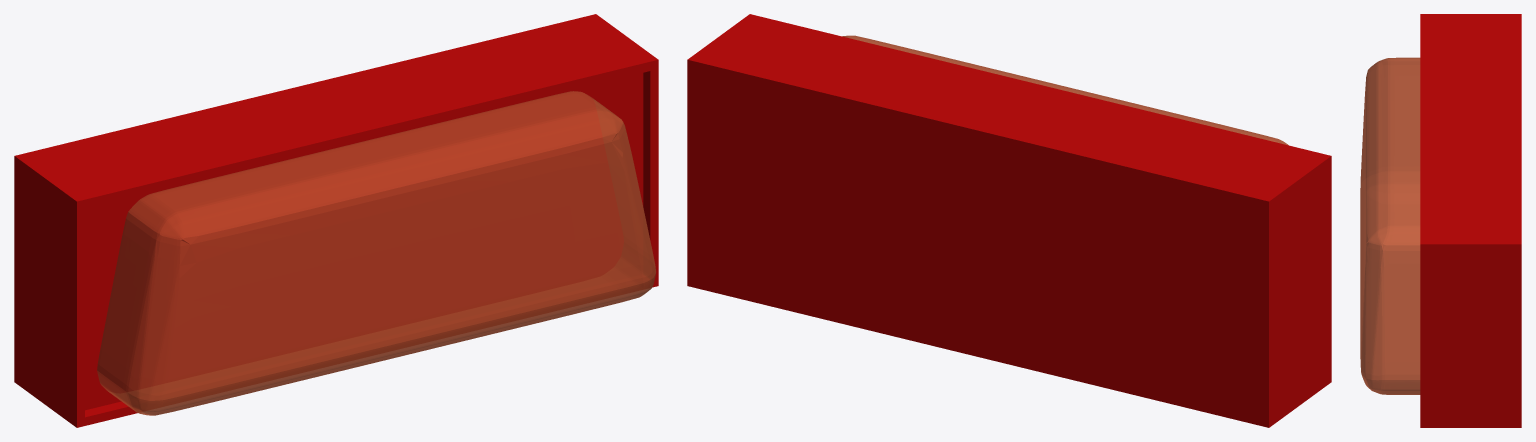
The model's file is light_1.fbx.
The picture shows the model from 3 angles, left to right: view 1: azimuth 30°, elevation 25°; view 2: azimuth 150°, elevation 25°; view 3: azimuth 270°, elevation 25°; orthographic projection. The views are drawn at different scales.
Parts seen in each view (by area): view 1: Object 44 2, Object 45; view 2: Object 44 2, Object 45; view 3: Object 44 2, Object 45.
Part boxes in pixels (x1,y1,x2,y2): Object 44 2: (14, 14, 658, 427); Object 45: (97, 91, 655, 415); Object 44 2: (687, 14, 1331, 427); Object 45: (842, 35, 1288, 145); Object 44 2: (1420, 14, 1521, 427); Object 45: (1360, 57, 1420, 394).
Size of the model in its own units: 807 by 239 by 300.
